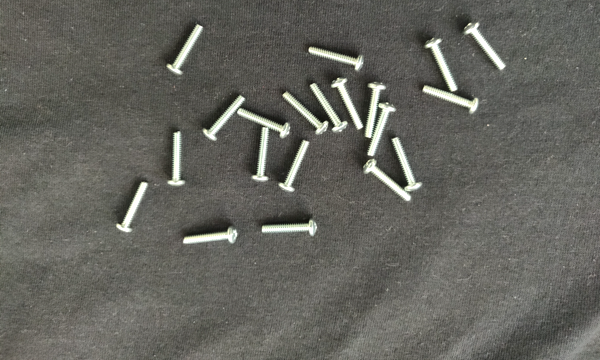longscrew: (202, 92, 248, 139), (163, 25, 205, 76), (112, 179, 150, 235), (312, 83, 352, 133), (284, 89, 326, 136), (364, 161, 411, 203), (277, 136, 311, 194), (237, 105, 289, 138), (393, 138, 425, 191), (308, 46, 364, 74), (368, 105, 398, 156), (334, 80, 365, 129), (425, 89, 478, 112), (366, 80, 386, 138), (262, 219, 320, 237), (179, 228, 237, 245), (254, 126, 271, 182), (170, 132, 184, 189)
